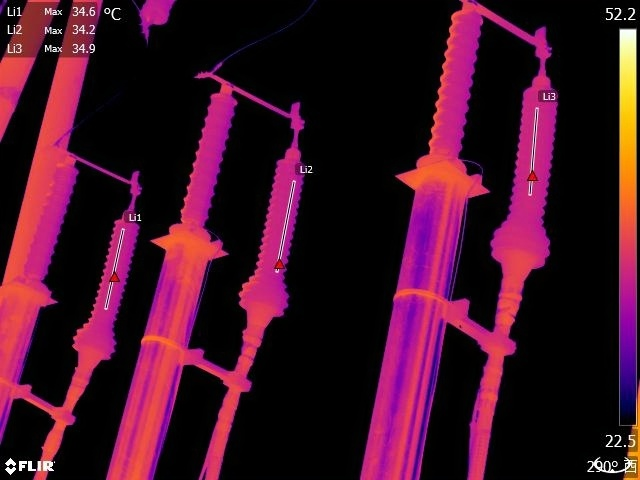post insulator: (422, 13, 486, 159), (172, 91, 240, 227), (20, 159, 81, 277)
tube: (489, 70, 568, 261), (238, 141, 321, 310), (67, 208, 142, 356)
